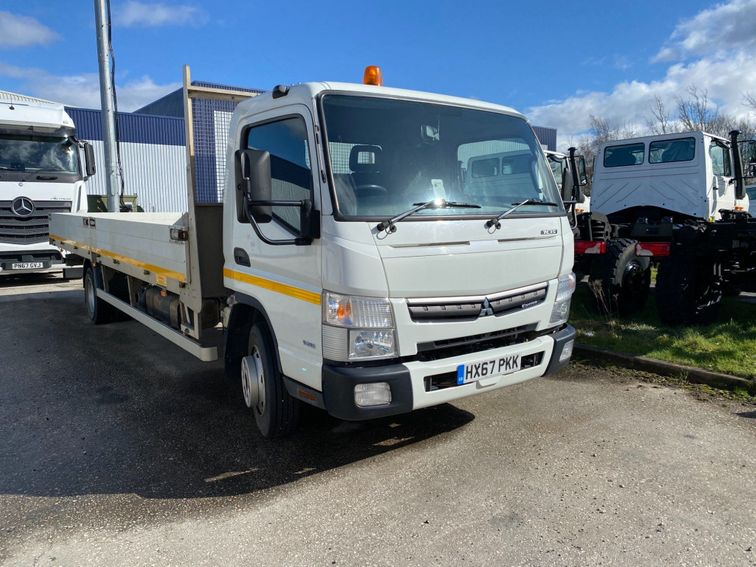Semi: (47, 66, 583, 445), (0, 94, 95, 278)
